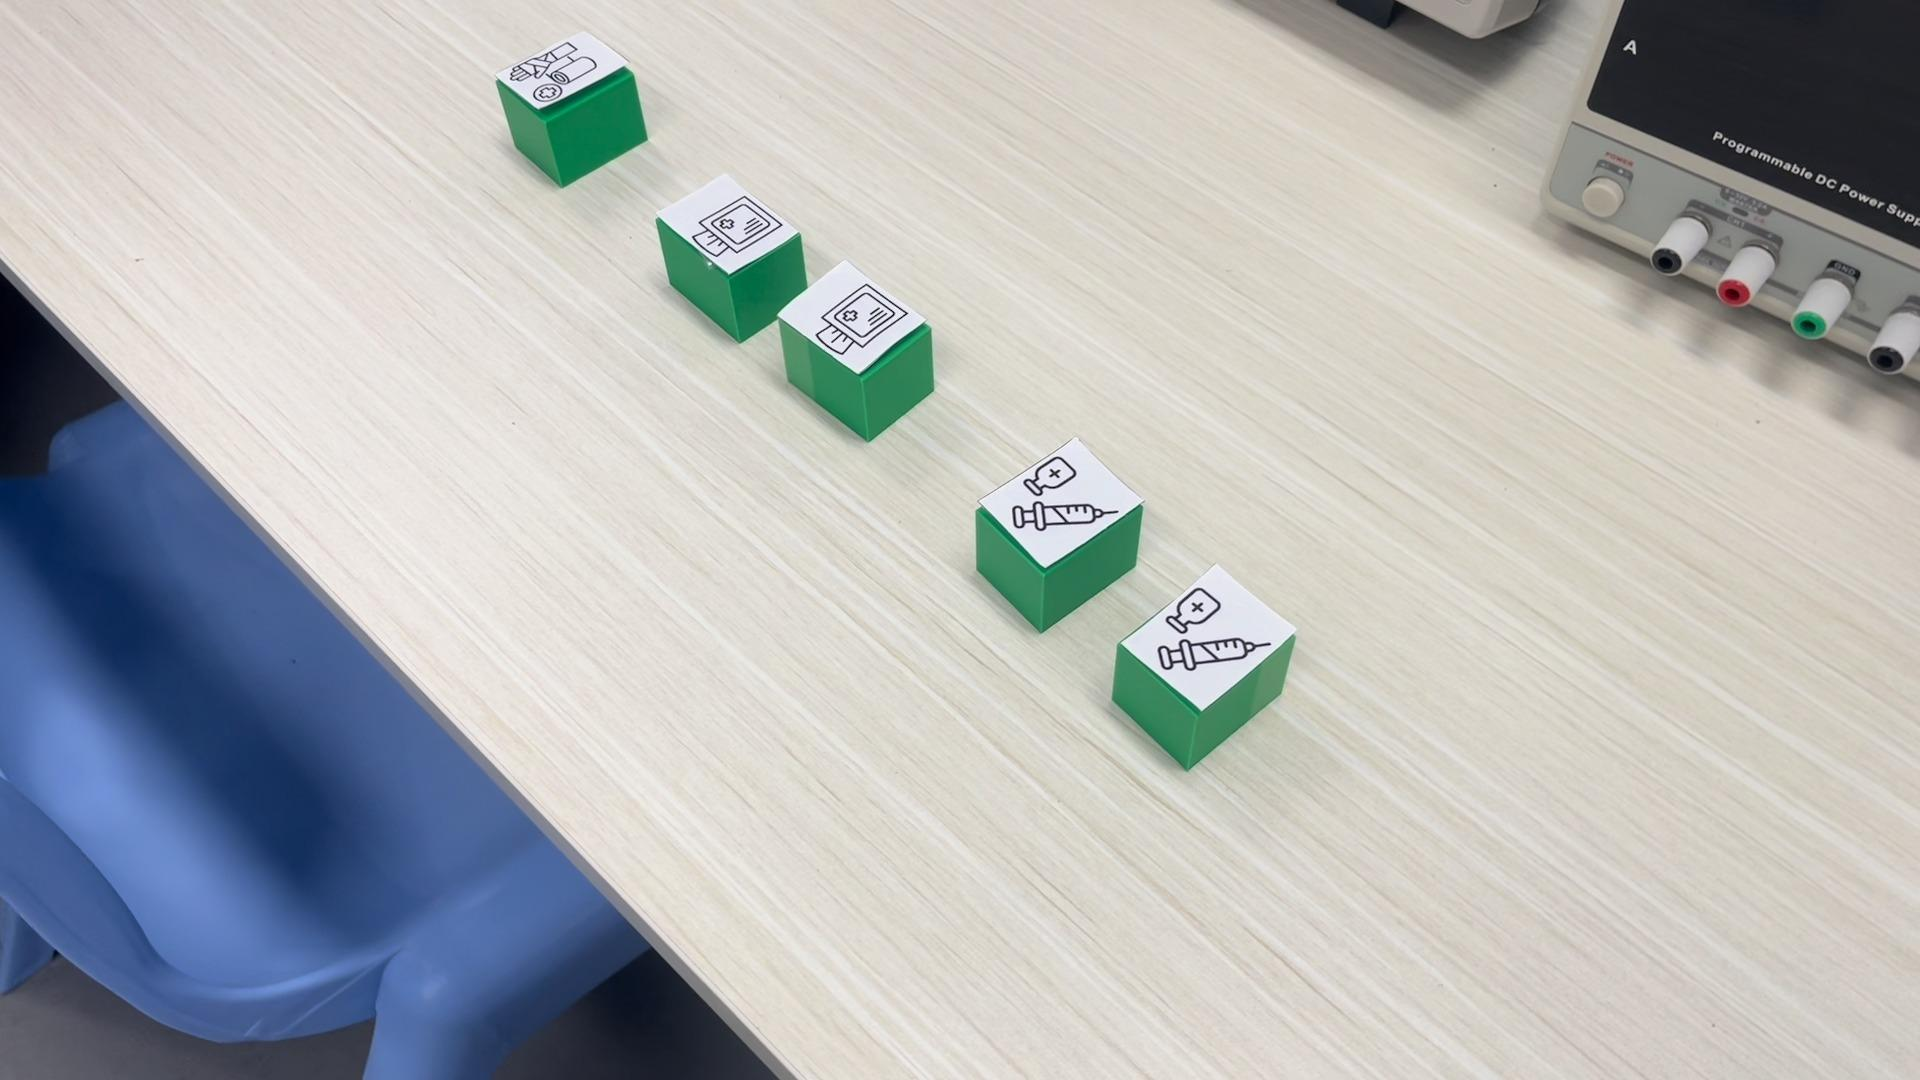Bandages: (492, 28, 649, 187)
Gauze: (777, 260, 936, 442), (657, 171, 807, 344)
antiseptic cream: (1109, 562, 1299, 770), (971, 435, 1146, 632)
